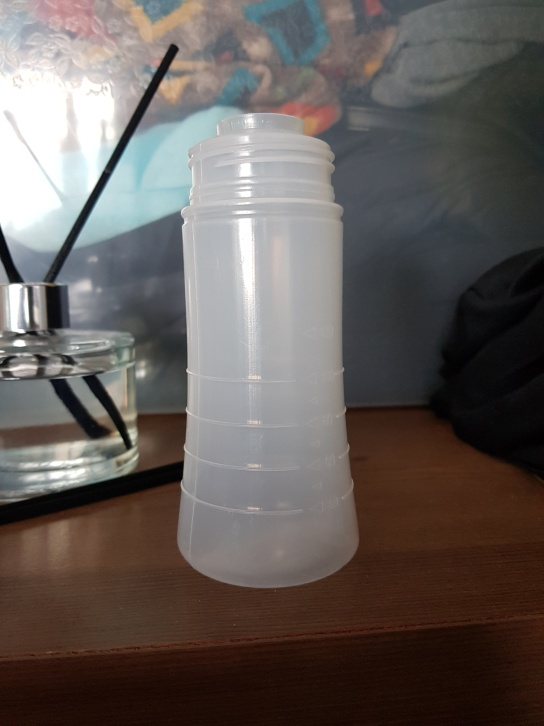Plastic: (177, 109, 361, 589)
